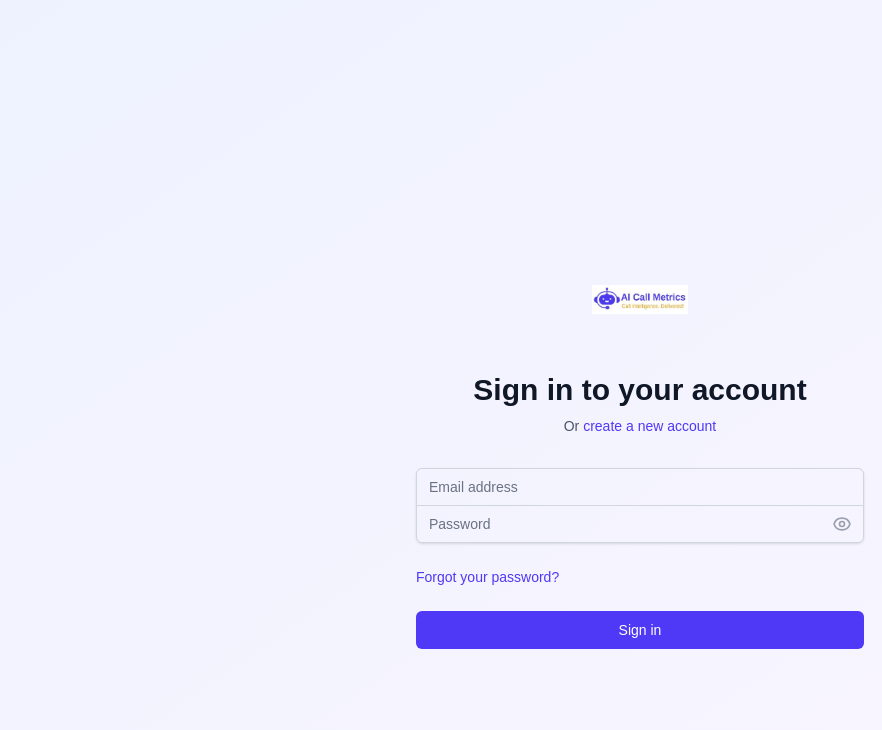
Test case: LoginForm › handles email verification needed error
Type "test@example.com" into the field with placeholder "Email address" at (640, 486), box [416,468,864,506]
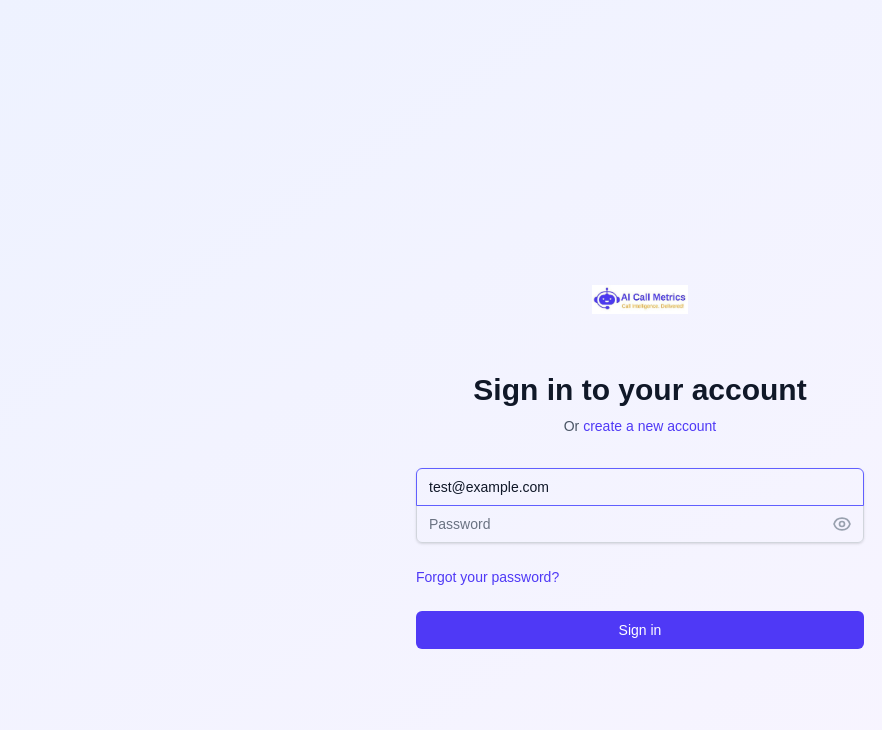
Type "password123" into the password field with placeholder "Password" at (640, 524), box [416,504,864,542]
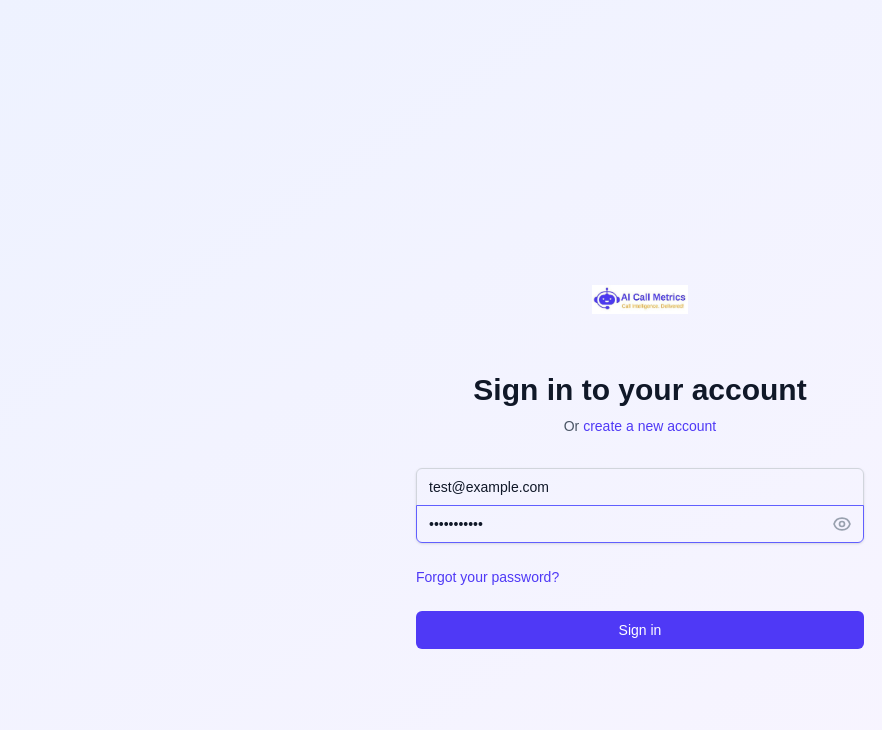
Click the button "Sign in" at (640, 630), box [416,610,864,648]
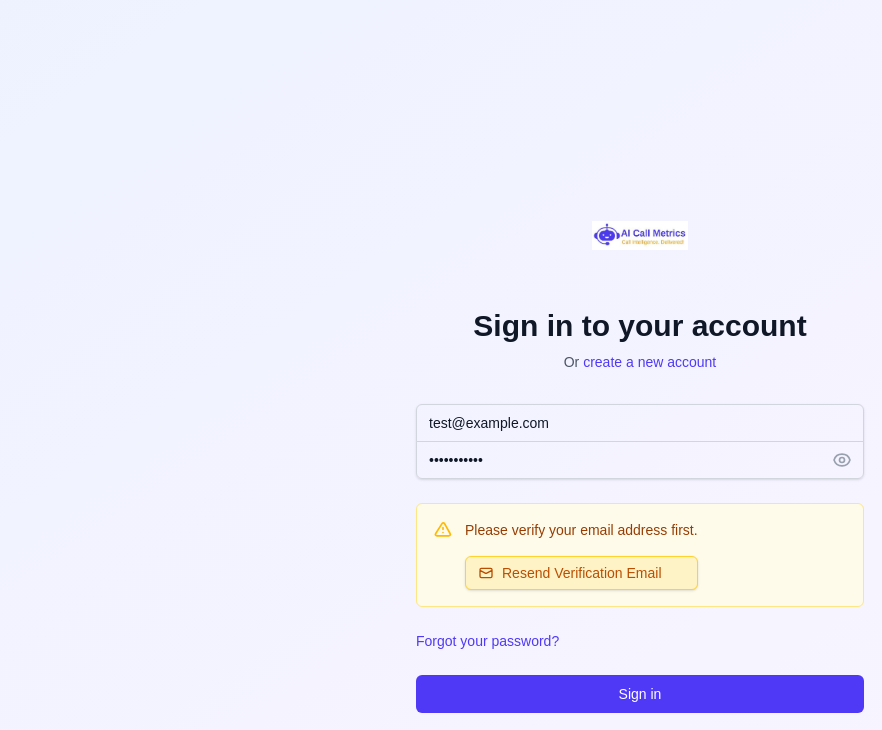
Expected: the text "Please verify your email address first." is shown, [465,520,698,540]
Expected: the button "Resend Verification Email" is shown, [465,556,698,590]
